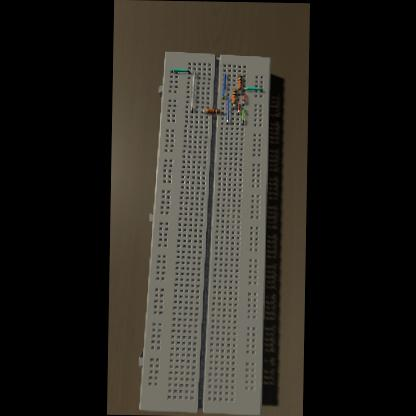breadboard: (138, 50, 271, 414)
resistor: (232, 88, 236, 103), (206, 108, 220, 112), (238, 74, 242, 88)
wire: (191, 70, 195, 111), (172, 68, 190, 73), (244, 87, 262, 91), (223, 72, 225, 99), (226, 96, 228, 123), (242, 107, 244, 124), (238, 102, 240, 114), (243, 92, 245, 104), (232, 102, 234, 108), (238, 88, 240, 94), (202, 110, 205, 112), (220, 110, 223, 112), (239, 73, 240, 74)
